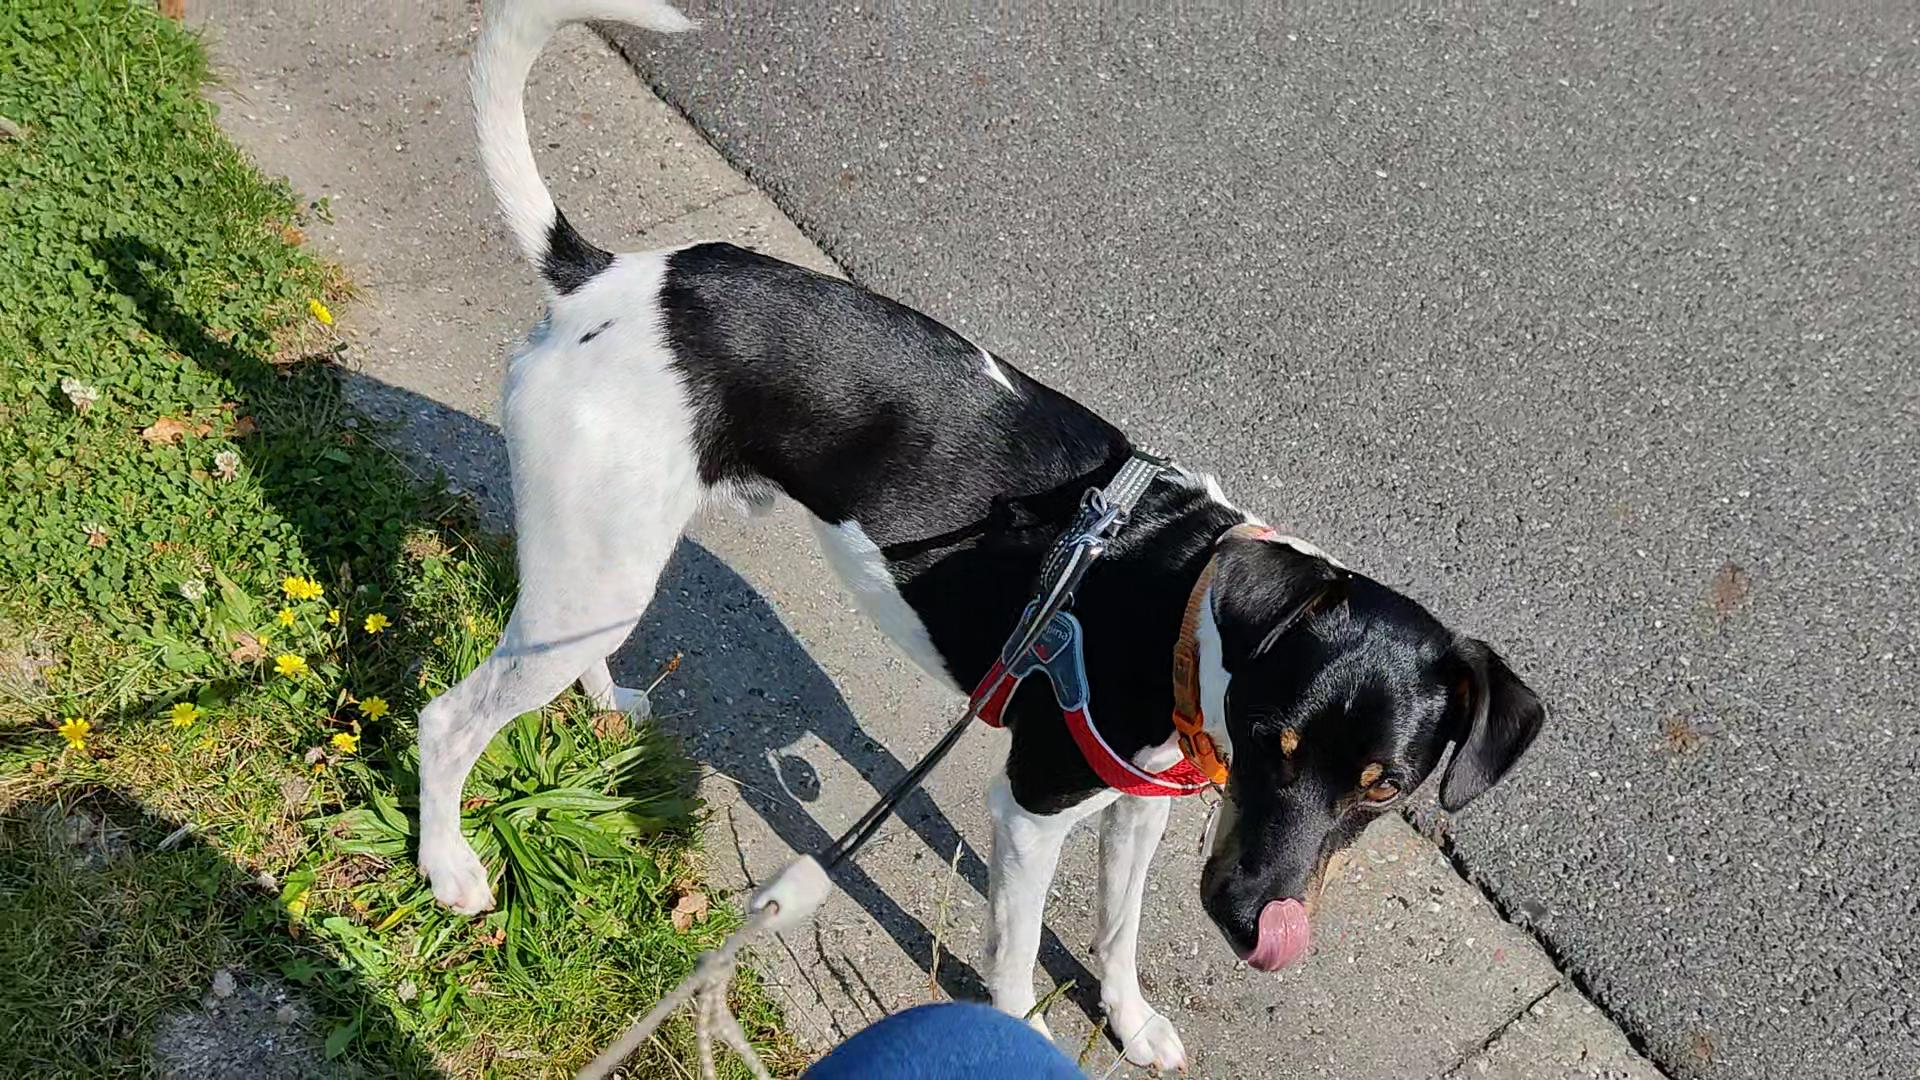Dog: (398, 0, 1553, 1080)
